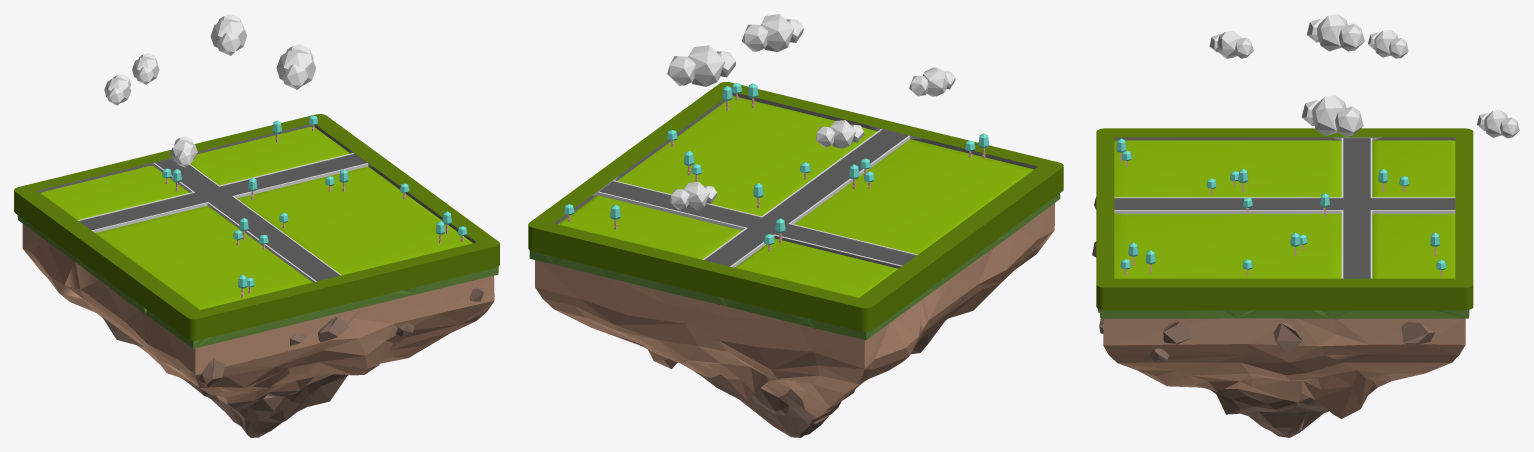
The model's file is islandGrp.fbx.
3 views of the same model, side by side, from view 1: azimuth 30°, elevation 25°; view 2: azimuth 150°, elevation 25°; view 3: azimuth 270°, elevation 25° (orthographic). The views are drawn at different scales.
Visible parts, largest first — view 1: pCube1, island, Cloud.004, Cloud.003, Cloud.002, Cloud, Cloud.001; view 2: pCube1, island, Cloud.004, Cloud.003, Cloud.002, Cloud, Cloud.001; view 3: pCube1, island, Cloud.004, Cloud.003, Cloud.001, Cloud, Cloud.002.
Part boxes in pixels (bbox=[...]): pCube1: bbox=[14, 114, 499, 340]; island: bbox=[17, 215, 498, 437]; Cloud.004: bbox=[276, 44, 316, 89]; Cloud.003: bbox=[210, 14, 247, 55]; Cloud.002: bbox=[104, 74, 131, 105]; Cloud: bbox=[132, 53, 159, 84]; Cloud.001: bbox=[170, 136, 197, 167]; pCube1: bbox=[528, 82, 1063, 331]; island: bbox=[529, 193, 1060, 437]; Cloud.004: bbox=[667, 45, 735, 86]; Cloud.003: bbox=[742, 14, 803, 51]; Cloud.002: bbox=[816, 120, 864, 148]; Cloud: bbox=[669, 181, 717, 210]; Cloud.001: bbox=[909, 67, 955, 96]; pCube1: bbox=[1096, 128, 1473, 310]; island: bbox=[1092, 197, 1469, 437]; Cloud.004: bbox=[1301, 95, 1363, 136]; Cloud.003: bbox=[1307, 14, 1364, 51]; Cloud.001: bbox=[1209, 30, 1253, 58]; Cloud: bbox=[1477, 109, 1519, 138]; Cloud.002: bbox=[1368, 29, 1408, 58].
Bounding box in the file's own units: 25.08 × 30.35 × 28.13.
